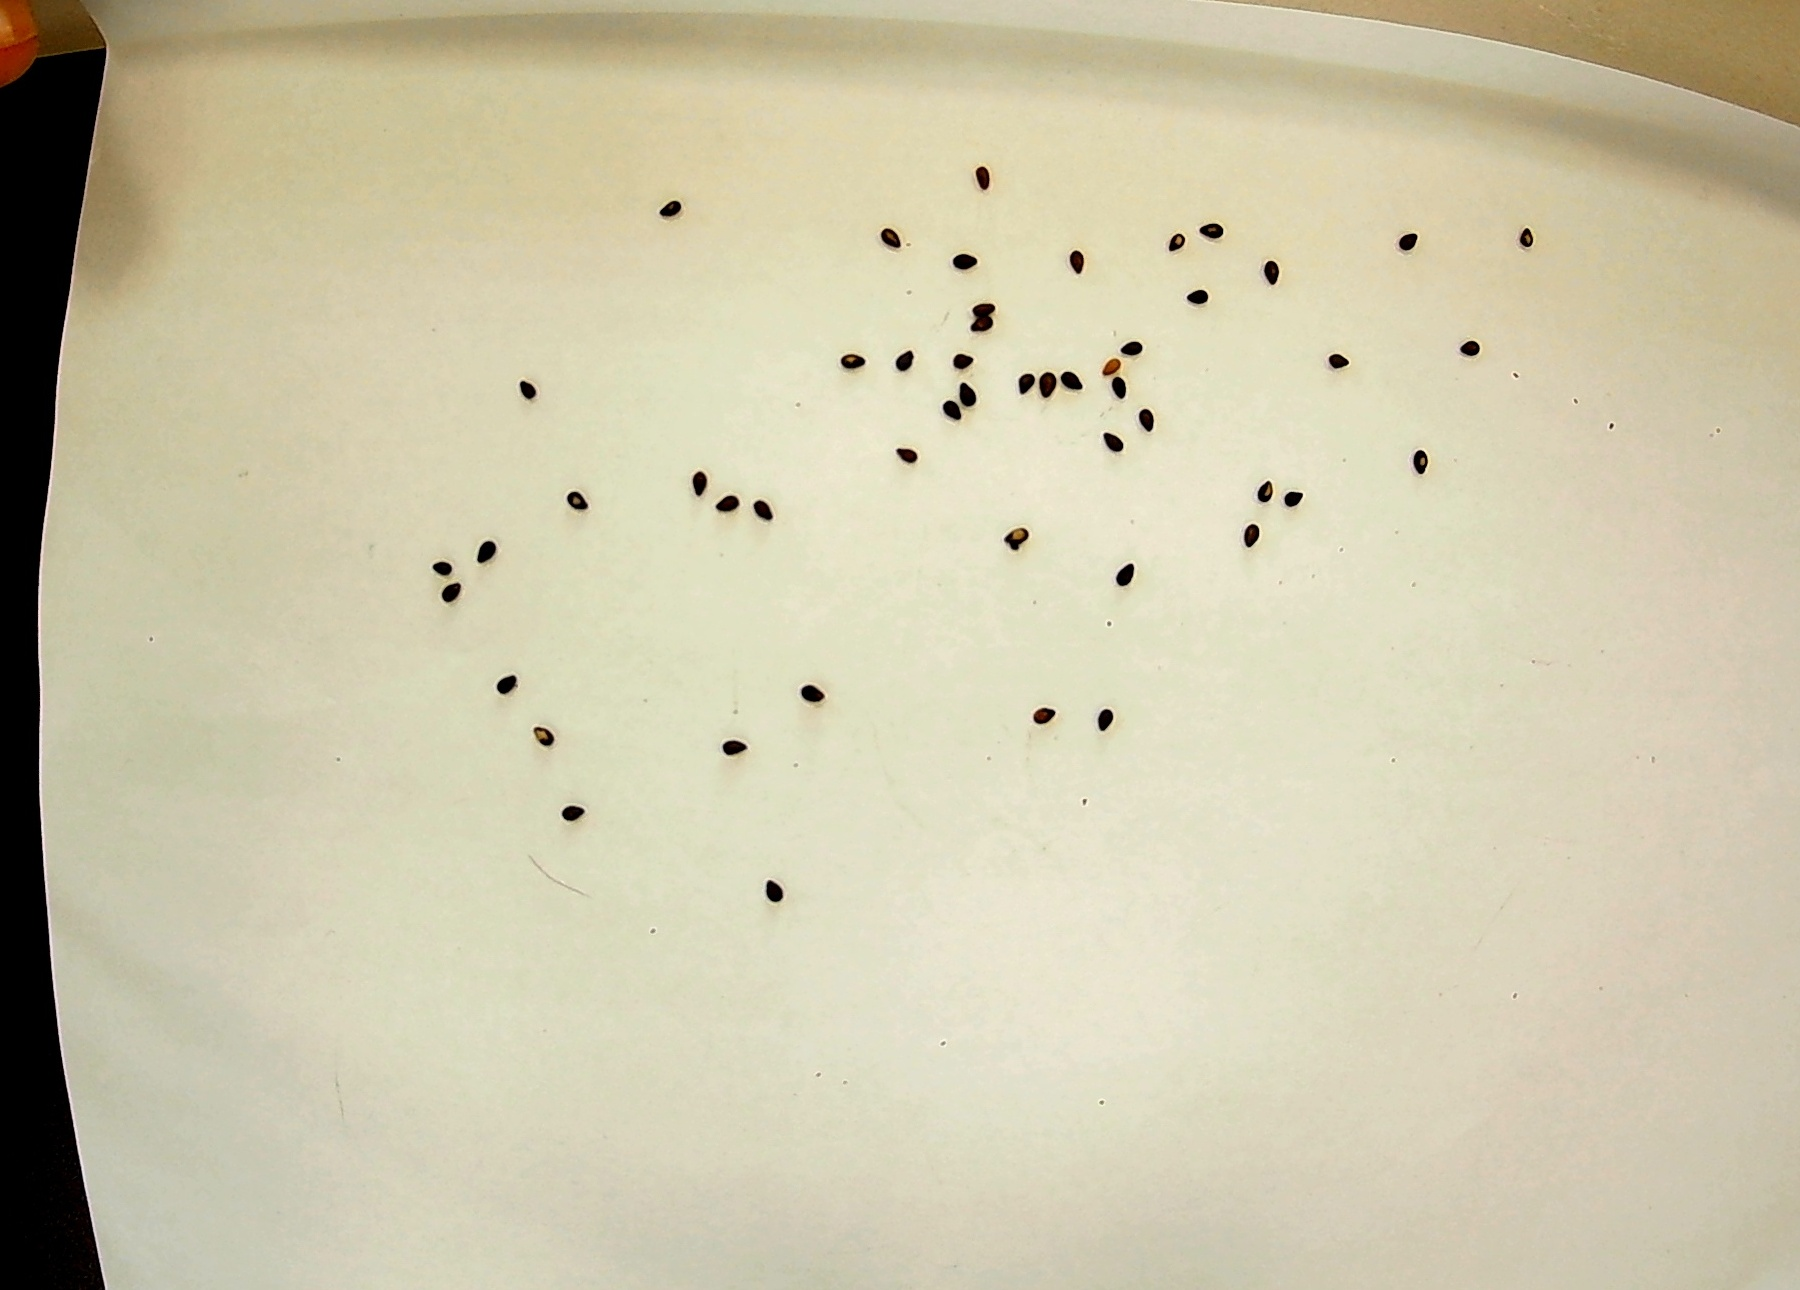sesami: (887, 341, 925, 388), (504, 371, 548, 410), (836, 343, 885, 378), (890, 431, 927, 477), (925, 388, 961, 429), (794, 674, 832, 712), (947, 242, 982, 281), (484, 660, 518, 699), (1238, 514, 1267, 558), (710, 482, 742, 522), (469, 531, 500, 572), (998, 519, 1033, 556), (565, 484, 599, 522), (1059, 357, 1090, 398), (952, 378, 993, 408), (1030, 697, 1063, 732), (1065, 243, 1100, 276), (560, 796, 596, 828), (719, 733, 752, 766), (1100, 427, 1133, 461), (523, 712, 555, 747), (751, 493, 779, 532), (1408, 438, 1436, 477), (1038, 362, 1060, 409), (1111, 563, 1148, 591), (689, 464, 714, 505), (1129, 408, 1171, 433), (1326, 342, 1353, 380), (1247, 470, 1278, 504), (964, 293, 1007, 317), (954, 317, 1006, 336), (1095, 706, 1123, 741), (1197, 211, 1225, 246), (758, 873, 786, 906), (653, 197, 687, 223), (435, 579, 460, 614), (945, 348, 980, 373), (1390, 233, 1432, 253), (1282, 484, 1310, 514), (975, 161, 998, 197), (1102, 376, 1134, 401), (879, 216, 899, 257), (1521, 221, 1540, 261), (1167, 225, 1190, 257), (1185, 281, 1213, 307), (1014, 364, 1035, 399), (1261, 253, 1282, 288), (1455, 335, 1479, 363), (1102, 353, 1130, 376), (426, 560, 458, 577), (1120, 336, 1143, 357)
